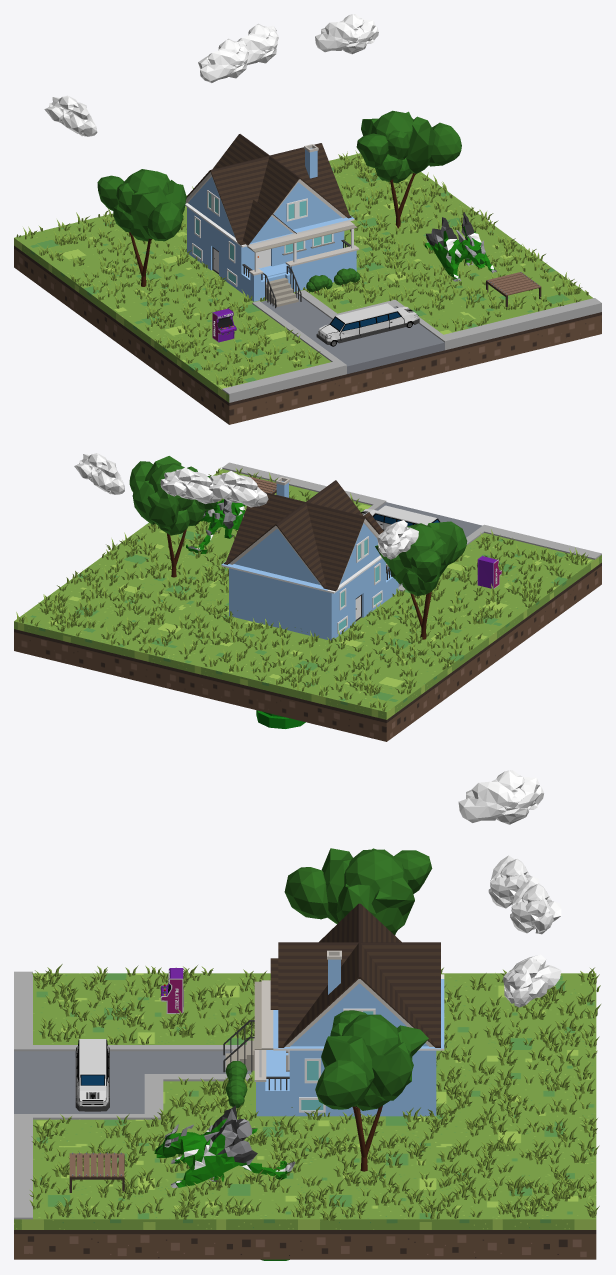
The picture shows the model from 3 angles, top to bottom: view 1: azimuth 30°, elevation 25°; view 2: azimuth 150°, elevation 25°; view 3: azimuth 270°, elevation 25°; orthographic projection. The views are drawn at different scales.
Visible parts, largest first — view 1: Cube.006, Cube.1594, Circle.012_Grass_0.192, Cube.007, tree, tree.001, VEHICLES_LIMOUSINE, ANIMAL_DRAGON, Cube.009, OBJRANDOM_ARCADE; view 2: Cube.006, Cube.1594, Circle.012_Grass_0.192, Cube.007, tree.001, tree, ANIMAL_DRAGON, VEHICLES_LIMOUSINE, OBJRANDOM_ARCADE, UNDERGROUND_PIPES; view 3: Cube.006, Circle.012_Grass_0.192, Cube.1594, tree, Cube.007, tree.001, ANIMAL_DRAGON, VEHICLES_LIMOUSINE, Cube.009, OBJRANDOM_ARCADE.
Part boxes in pixels (<box>): Cube.006: <box>14,153,601,424</box>; Cube.1594: <box>185,134,359,308</box>; Circle.012_Grass_0.192: <box>16,150,588,386</box>; Cube.007: <box>44,14,378,136</box>; tree: <box>356,110,461,228</box>; tree.001: <box>97,169,186,286</box>; VEHICLES_LIMOUSINE: <box>316,303,419,346</box>; ANIMAL_DRAGON: <box>425,212,497,281</box>; Cube.009: <box>486,272,541,306</box>; OBJRANDOM_ARCADE: <box>212,308,236,342</box>; Cube.006: <box>14,462,601,741</box>; Cube.1594: <box>221,477,398,640</box>; Circle.012_Grass_0.192: <box>16,468,588,711</box>; Cube.007: <box>74,453,418,559</box>; tree.001: <box>375,521,467,639</box>; tree: <box>129,456,216,577</box>; ANIMAL_DRAGON: <box>186,499,245,553</box>; VEHICLES_LIMOUSINE: <box>361,505,439,530</box>; OBJRANDOM_ARCADE: <box>477,555,501,588</box>; UNDERGROUND_PIPES: <box>256,710,305,728</box>; Cube.006: <box>14,971,596,1259</box>; Circle.012_Grass_0.192: <box>29,964,600,1220</box>; Cube.1594: <box>223,903,444,1116</box>; tree: <box>315,1010,428,1171</box>; Cube.007: <box>458,770,561,1007</box>; tree.001: <box>284,848,432,935</box>; ANIMAL_DRAGON: <box>154,1105,295,1187</box>; VEHICLES_LIMOUSINE: <box>75,1039,109,1111</box>; Cube.009: <box>69,1152,124,1192</box>; OBJRANDOM_ARCADE: <box>160,968,183,1013</box>.
Bounding box in the file's own units: 4071 × 2759 × 4040.
Materials: 42 (3 with a texture image).
